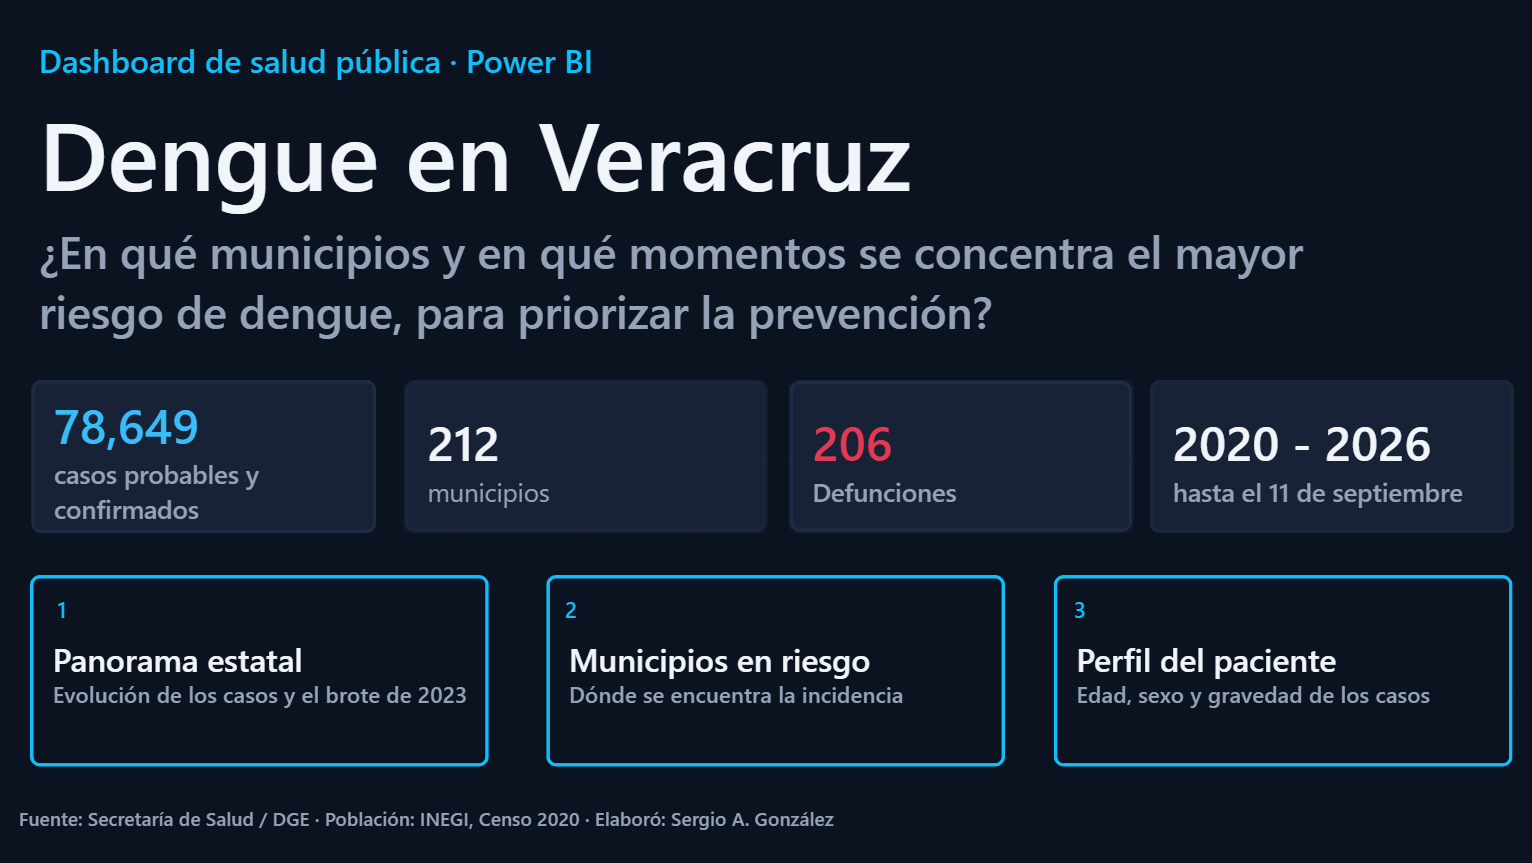

This screenshot's page, from the dashboard's own definition file:
{"tool":"powerbi","page":{"name":"Inicio","canvas":[1280,720],"ordinal":0},"visuals":[{"type":"cardVisual","fields":{"Data":["_Measures.Casos"]},"box":[26,317.4,288,128],"z":0},{"type":"cardVisual","fields":{"Data":["dim_municipio.Cantidad_Municipios"]},"box":[337,317.4,304,128],"z":1000},{"type":"cardVisual","fields":{"Data":["_Measures.Defunciones"]},"box":[658,317.4,288,128],"z":2000},{"type":"cardVisual","fields":{"Data":["_Measures.Periodo_general"]},"box":[960,317.4,304,128],"z":3000},{"type":"textbox","box":[32,73.1,752,112],"z":4000},{"type":"textbox","box":[32,185.1,1072,112],"z":5000},{"type":"textbox","box":[16,672,864,32],"z":6000},{"type":"cardVisual","title":"1","fields":{"Data":["Min(Paginas_Dashboard.Paginas)"]},"box":[25,480,384,160],"z":7000},{"type":"cardVisual","title":"Mun","fields":{"Data":["Min(Paginas_Dashboard.Paginas)"]},"box":[456,480,384,160],"z":8000},{"type":"cardVisual","fields":{"Data":["Min(Paginas_Dashboard.Paginas)"]},"box":[880,480,384,160],"z":9000},{"type":"textbox","box":[32,32,480,48],"z":10000},{"type":"actionButton","box":[16,480,400,160],"z":11000},{"type":"actionButton","box":[448,480,400,160],"z":12000},{"type":"actionButton","box":[872,480,400,160],"z":13000},{"type":"textbox","box":[48,496,16,32],"z":14000},{"type":"textbox","box":[472,496,16,32],"z":15000},{"type":"textbox","box":[896,496,16,32],"z":16000}]}

Visuals, with their boxes in screenshot pixels (x1, y1, x2, y2), scaled from the page's 1280x720 canvas onto the 1532x863 screenshot:
cardVisual - _Measures.Casos: [31,380,376,534]
cardVisual - dim_municipio.Cantidad_Municipios: [403,380,767,534]
cardVisual - _Measures.Defunciones: [788,380,1132,534]
cardVisual - _Measures.Periodo_general: [1149,380,1513,534]
textbox: [38,88,938,222]
textbox: [38,222,1321,356]
textbox: [19,805,1053,844]
"1" cardVisual: [30,575,490,767]
"Mun" cardVisual: [546,575,1005,767]
cardVisual - Min(Paginas_Dashboard.Paginas): [1053,575,1513,767]
textbox: [38,38,613,96]
actionButton: [19,575,498,767]
actionButton: [536,575,1015,767]
actionButton: [1044,575,1522,767]
textbox: [57,595,77,633]
textbox: [565,595,584,633]
textbox: [1072,595,1092,633]
